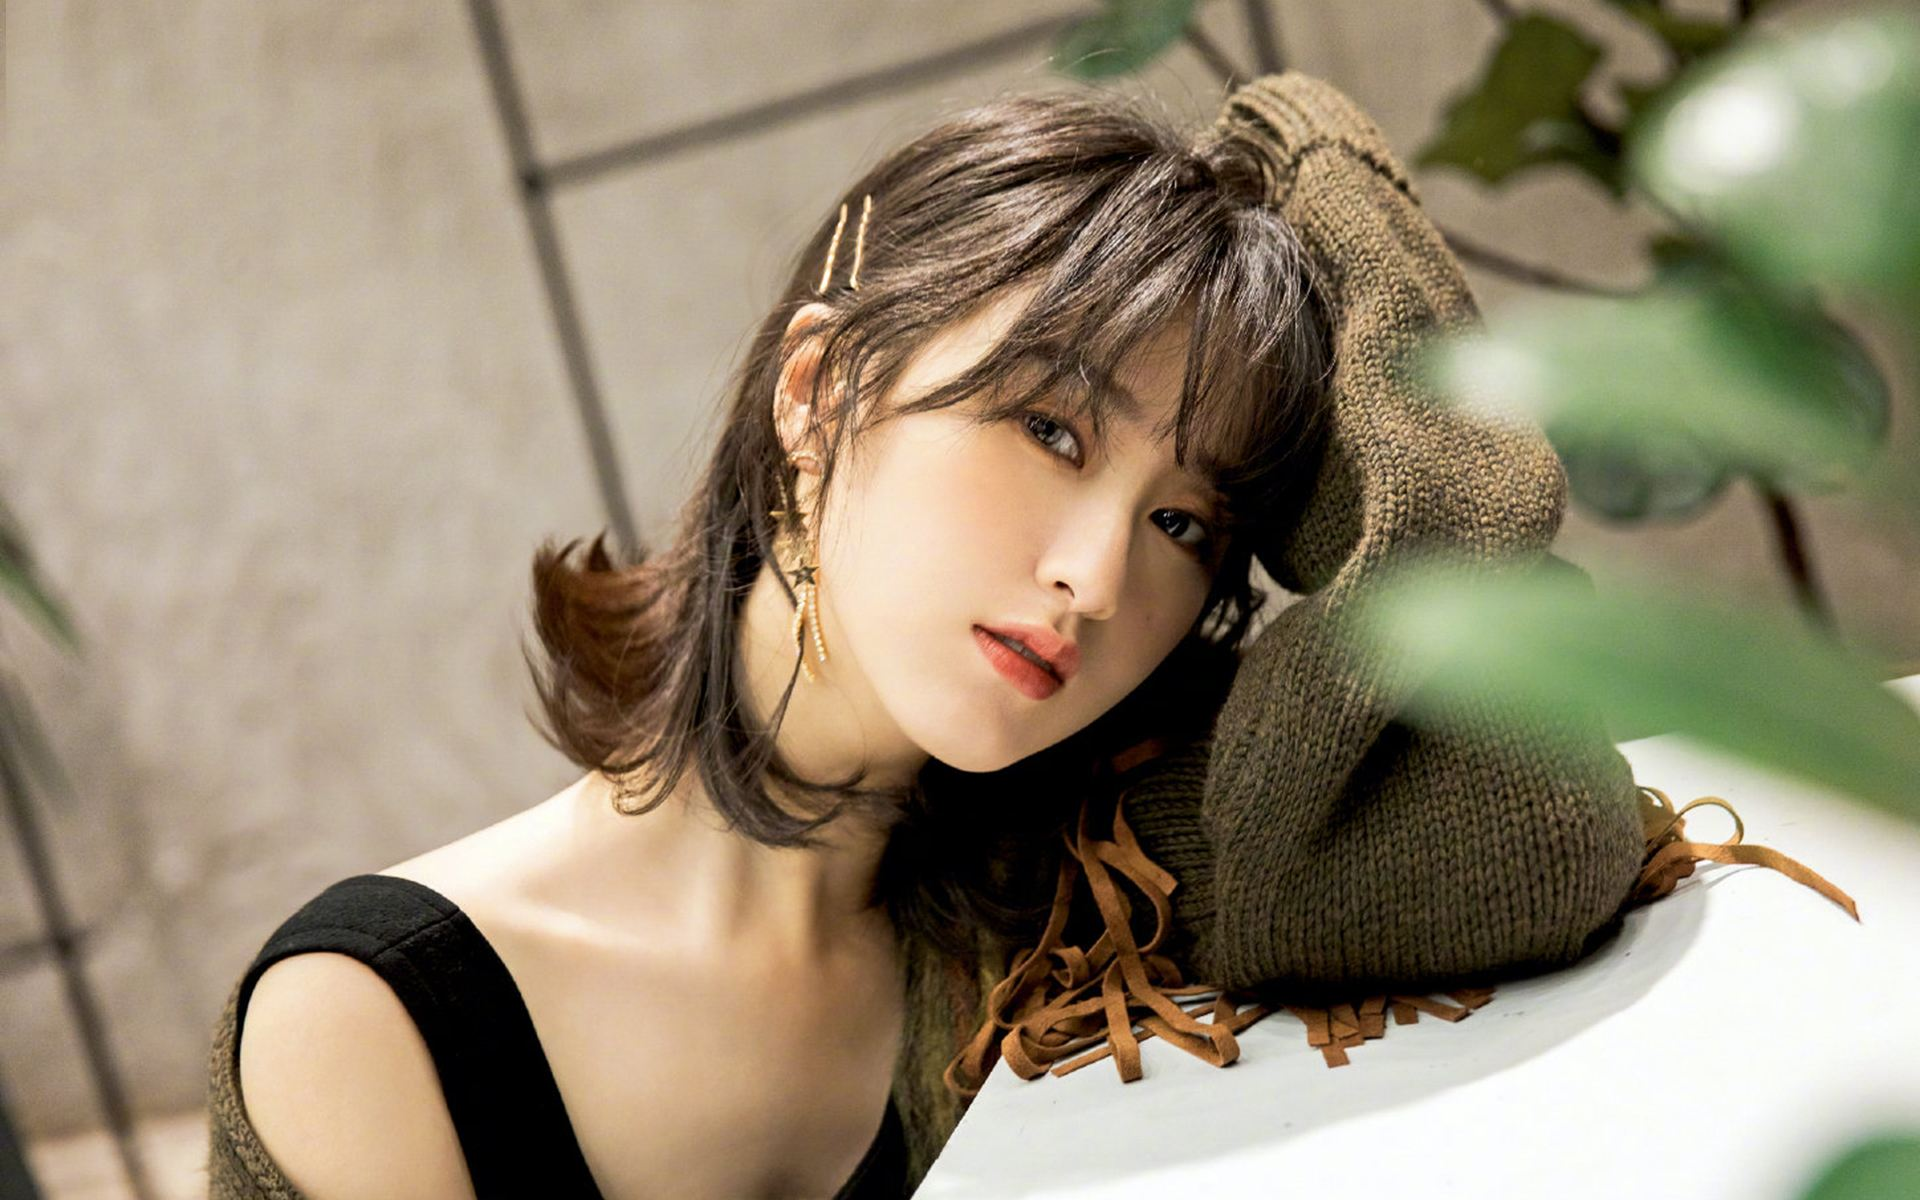person: (509, 138, 1418, 1099)
